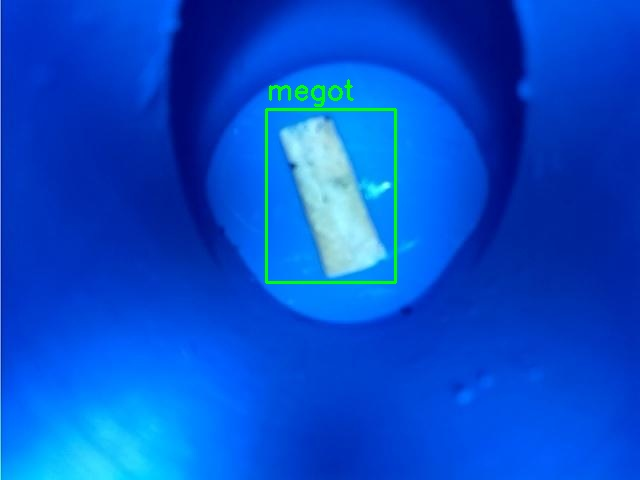megot: (266, 109, 395, 282)
